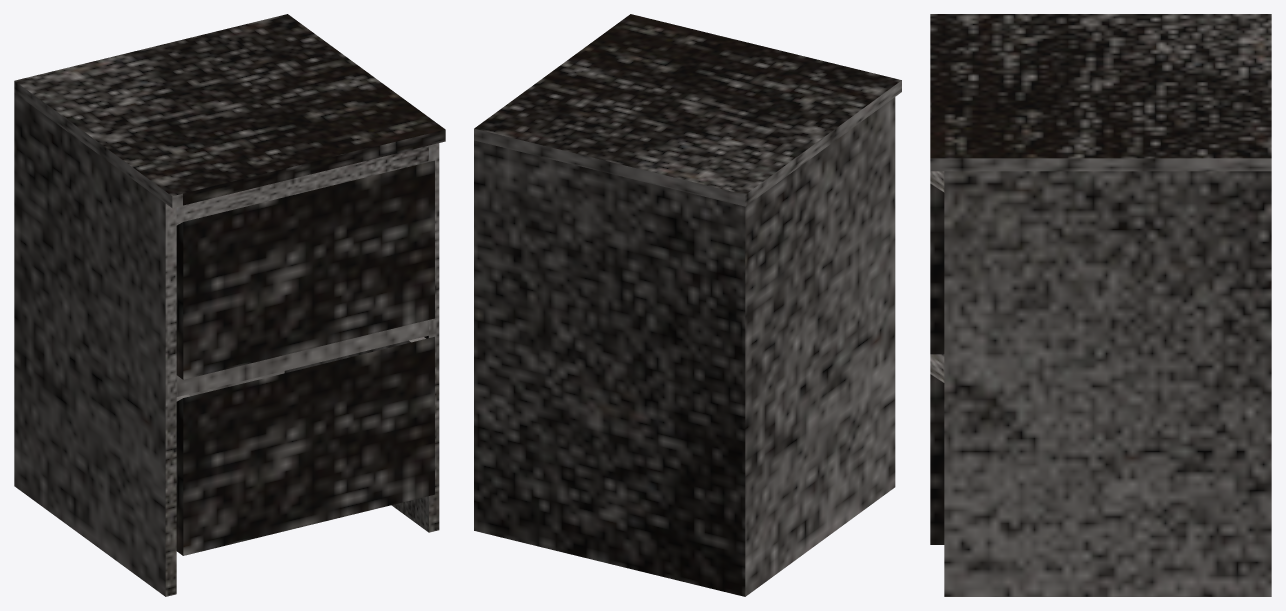
Rendered from Drawers.fbx.
3 views of the same model, side by side, from view 1: azimuth 30°, elevation 25°; view 2: azimuth 150°, elevation 25°; view 3: azimuth 270°, elevation 25° (orthographic). The views are drawn at different scales.
Visible parts, largest first — view 1: Drawer Container, Drawer 2, Drawer 1; view 2: Drawer Container; view 3: Drawer Container, Drawer 2, Drawer 1.
Boxes of the visible parts, left/top/right/bottom form: Drawer Container: left=14, top=14, right=445, bottom=596; Drawer 2: left=176, top=336, right=434, bottom=555; Drawer 1: left=176, top=160, right=434, bottom=379; Drawer Container: left=474, top=14, right=901, bottom=596; Drawer Container: left=930, top=14, right=1271, bottom=596; Drawer 2: left=930, top=354, right=944, bottom=544; Drawer 1: left=930, top=171, right=944, bottom=354.
Bounding box in the file's own units: 240 × 340 × 240.
2 materials, 2 textured.
